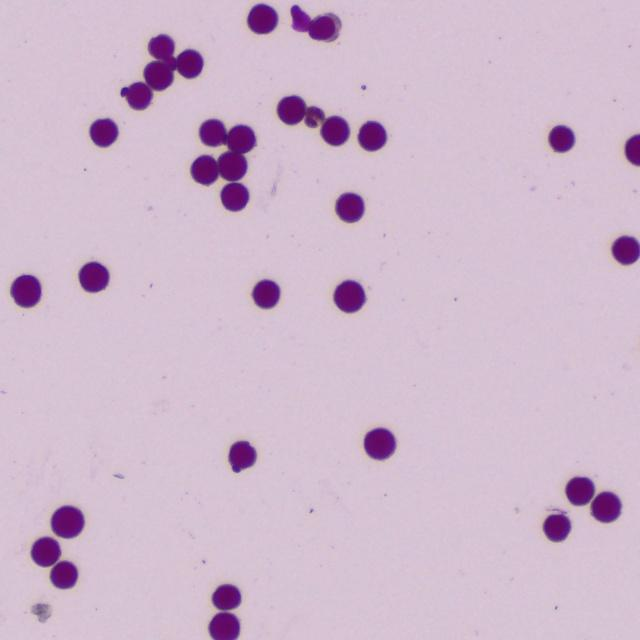viable: (364, 427, 395, 459), (51, 506, 83, 537), (334, 280, 365, 312), (591, 491, 621, 522), (247, 3, 277, 34), (11, 275, 40, 306), (218, 151, 247, 181), (79, 262, 108, 292), (228, 441, 256, 472), (308, 14, 340, 41), (31, 537, 60, 566), (143, 61, 172, 90), (565, 476, 594, 505), (321, 116, 349, 145), (336, 193, 364, 222), (277, 96, 305, 124), (227, 125, 255, 153), (358, 121, 385, 150), (252, 279, 279, 308), (209, 613, 239, 639), (191, 155, 217, 185), (221, 182, 248, 210), (124, 82, 152, 109), (612, 236, 639, 264), (177, 49, 203, 78), (90, 119, 117, 146), (543, 514, 570, 541), (50, 561, 77, 588), (212, 584, 240, 610), (199, 119, 225, 146), (548, 125, 574, 151), (148, 34, 174, 59), (292, 5, 310, 31), (626, 134, 639, 165), (305, 106, 324, 127)
